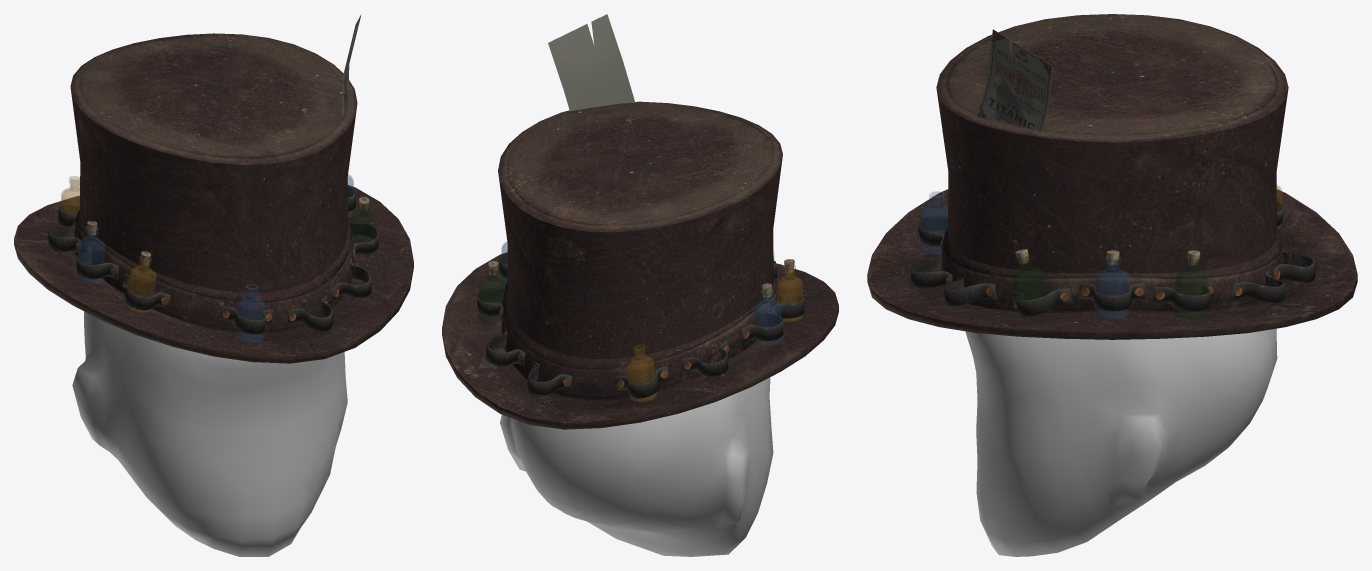
File: hat.glb
The picture shows the model from 3 angles, left to right: view 1: azimuth 30°, elevation 25°; view 2: azimuth 150°, elevation 25°; view 3: azimuth 270°, elevation 25°; orthographic projection. The views are drawn at different scales.
Visible parts, largest first — view 1: Main, HeadOccluder; view 2: Main, HeadOccluder; view 3: Main, HeadOccluder.
Boxes of the visible parts, x1,y1,x2,y2 form: Main: (14,14,413,363); HeadOccluder: (72,311,347,556); Main: (442,14,838,429); HeadOccluder: (500,377,773,556); Main: (867,14,1357,339); HeadOccluder: (965,328,1277,556).
Size of the model in its own units: 0.2425 by 0.3562 by 0.2808.
4 materials, 3 textured.
